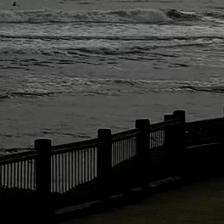surfer: (13, 2, 16, 6)
